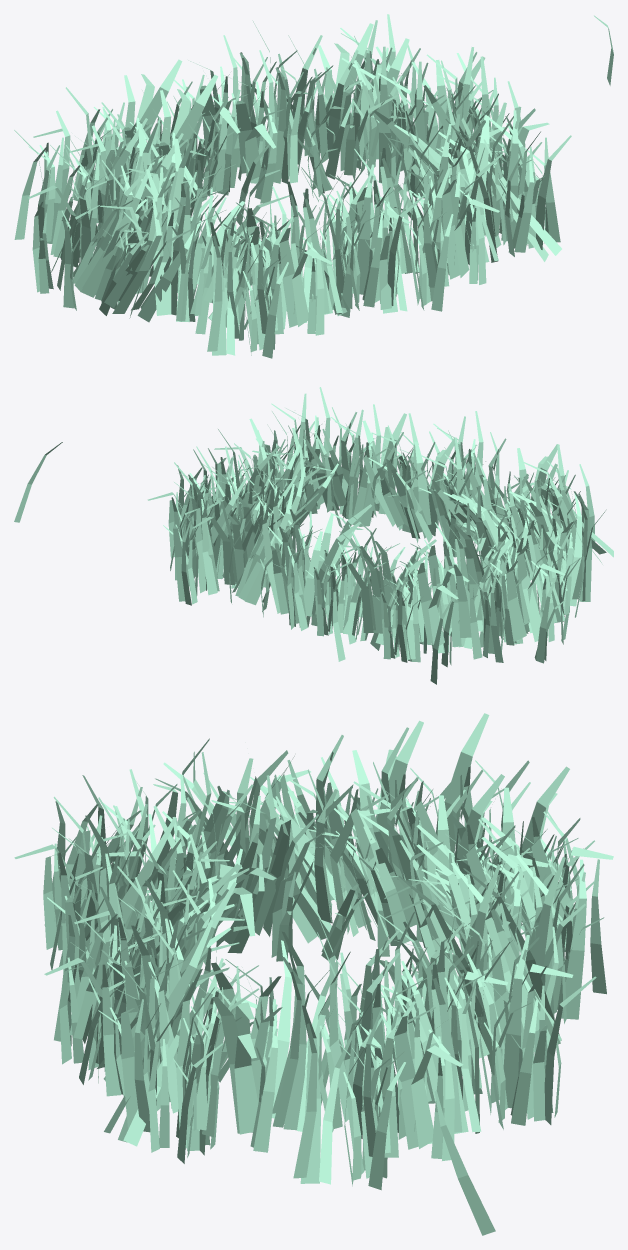
The model's file is 041520grassModel01.gltf.
3 views of the same model, one above another, from view 1: azimuth 30°, elevation 25°; view 2: azimuth 150°, elevation 25°; view 3: azimuth 270°, elevation 25° (orthographic). The views are drawn at different scales.
Parts seen in each view (by area): view 1: Plane.419, Plane.599, Plane.580, Plane.464, Plane.385, Plane.382, Plane.629, Plane.567, Plane.610, Plane.340, Plane.579, Plane.566 (+66 smaller); view 2: Plane.441, Plane.490, Plane.449, Plane.442, Plane.536, Plane.124, Plane.517, Plane.111, Plane.704, Plane.378, Plane.496, Plane.148 (+35 smaller); view 3: Plane.706, Plane.675, Plane.542, Plane.725, Plane.726, Plane.089, Plane.674, Plane.738, Plane.683, Plane.739, Plane.441, Plane.619 (+57 smaller).
Part boxes in pixels (bbox=[...]): Plane.419: bbox=[80, 163, 152, 297]; Plane.599: bbox=[357, 164, 374, 294]; Plane.580: bbox=[279, 227, 297, 327]; Plane.464: bbox=[379, 46, 392, 182]; Plane.385: bbox=[112, 198, 161, 313]; Plane.382: bbox=[137, 220, 201, 322]; Plane.629: bbox=[442, 179, 459, 279]; Plane.567: bbox=[207, 235, 222, 351]; Plane.610: bbox=[501, 110, 518, 240]; Plane.340: bbox=[169, 74, 217, 171]; Plane.579: bbox=[292, 249, 332, 326]; Plane.566: bbox=[210, 222, 226, 355]; Plane.441: bbox=[506, 561, 526, 641]; Plane.490: bbox=[245, 484, 294, 605]; Plane.449: bbox=[453, 564, 471, 637]; Plane.442: bbox=[516, 537, 541, 641]; Plane.536: bbox=[303, 531, 322, 616]; Plane.124: bbox=[345, 409, 363, 518]; Plane.517: bbox=[417, 562, 432, 643]; Plane.111: bbox=[359, 404, 380, 526]; Plane.704: bbox=[202, 500, 217, 595]; Plane.378: bbox=[570, 493, 581, 606]; Plane.496: bbox=[192, 517, 234, 585]; Plane.148: bbox=[414, 441, 431, 526]; Plane.706: bbox=[503, 935, 529, 1108]; Plane.675: bbox=[234, 1033, 258, 1134]; Plane.542: bbox=[561, 859, 586, 1019]; Plane.725: bbox=[394, 1015, 431, 1149]; Plane.726: bbox=[411, 1045, 463, 1148]; Plane.089: bbox=[434, 1091, 495, 1235]; Plane.674: bbox=[282, 957, 306, 1130]; Plane.738: bbox=[293, 1023, 317, 1178]; Plane.683: bbox=[253, 1020, 277, 1152]; Plane.739: bbox=[300, 1005, 321, 1183]; Plane.441: bbox=[444, 713, 489, 853]; Plane.619: bbox=[102, 964, 121, 1096].
Size of the model in its own units: 123 by 31.95 by 77.46.
